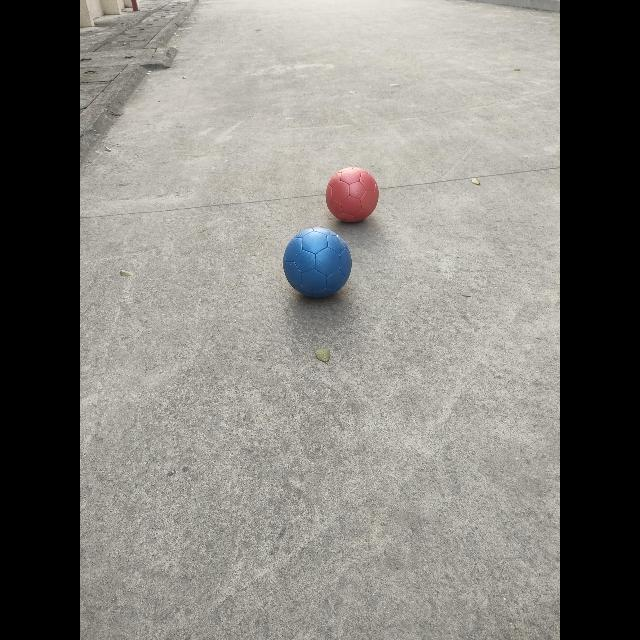B: (282, 228, 352, 300)
R: (326, 168, 378, 224)
